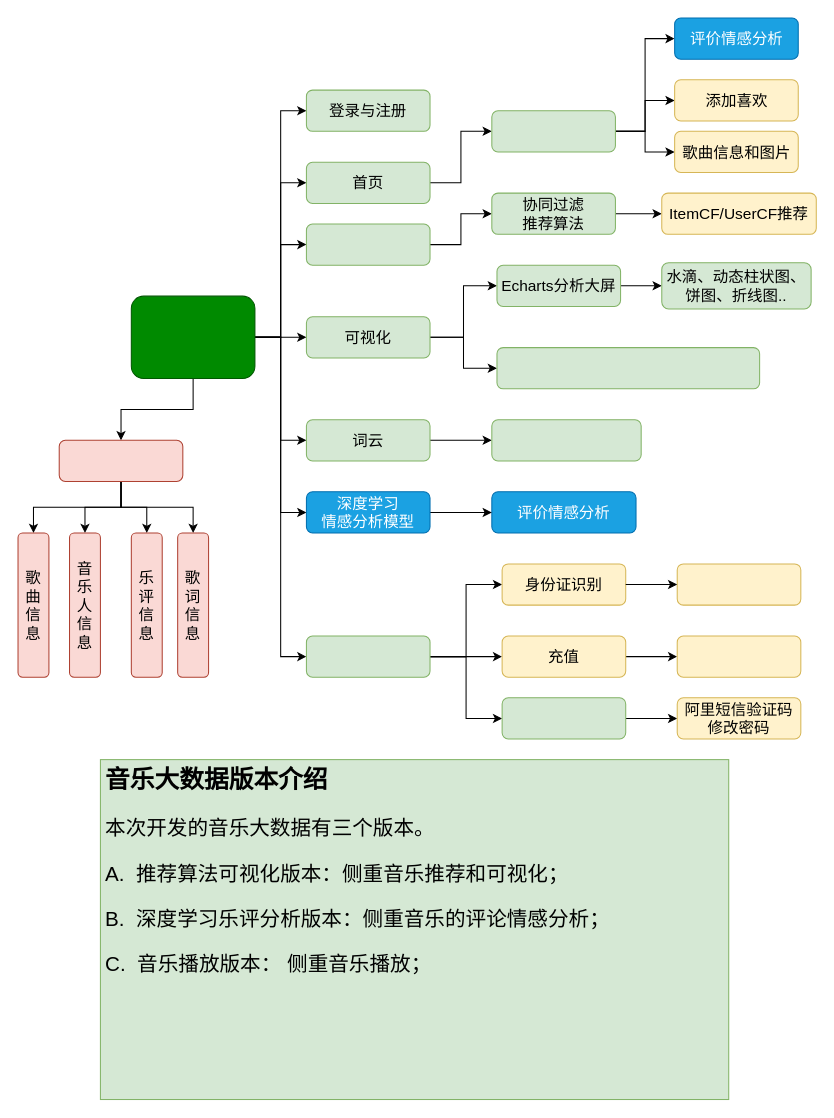
This 834x1118 diagram has some shape labels left out. Each missing label, with the centre of its shape:
交互式面积图、散点、多折线图等: the point at 628,368
修改个人信息: the point at 563,718
支付宝沙箱支付: the point at 738,656
歌曲卡片: the point at 553,131
歌曲库: the point at 367,244
歌词词云/评论词云: the point at 566,440
深度学习 音乐大数据 可视化平台【B】: the point at 192,337
爬虫模块: the point at 120,460
百度AI图像识别: the point at 738,584
设置: the point at 367,656
